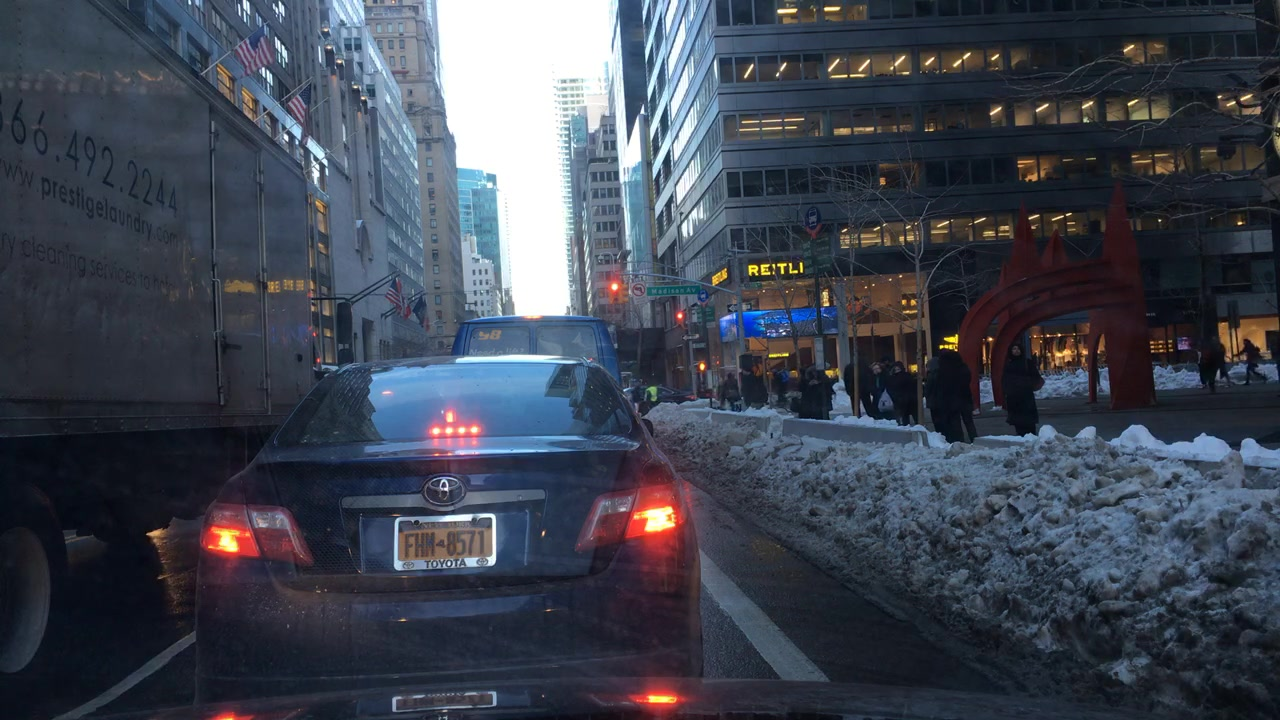licence: (396, 515, 501, 570)
